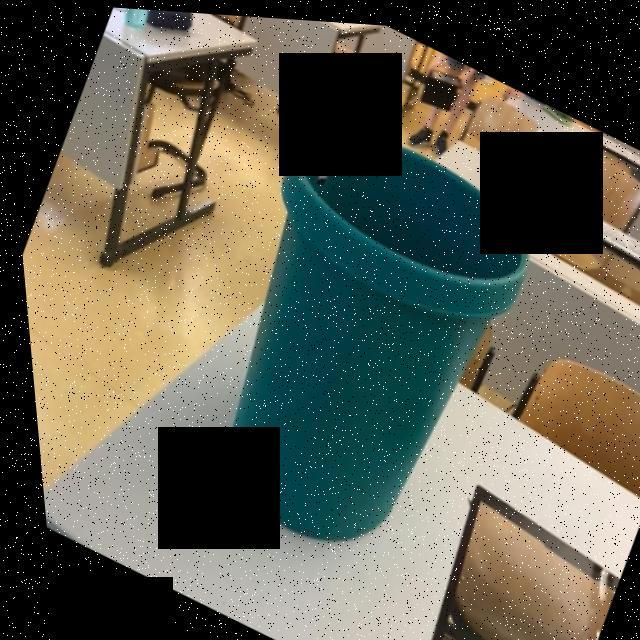bin: (101, 48, 600, 602)
